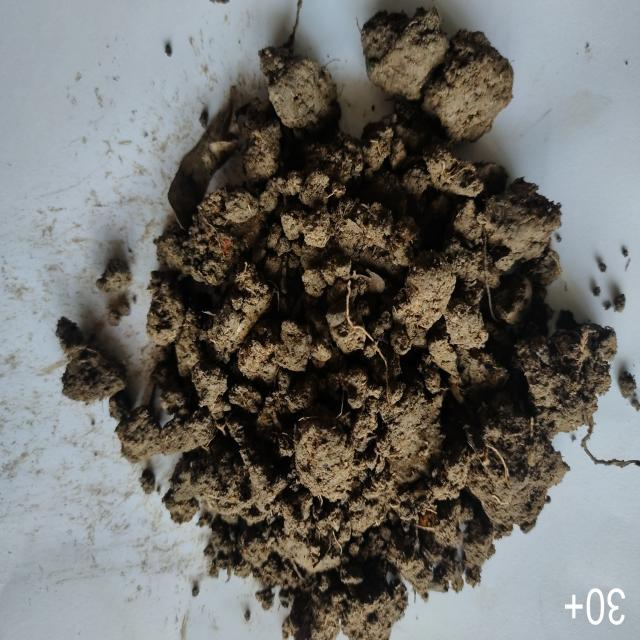soil: (224, 181, 496, 514)
